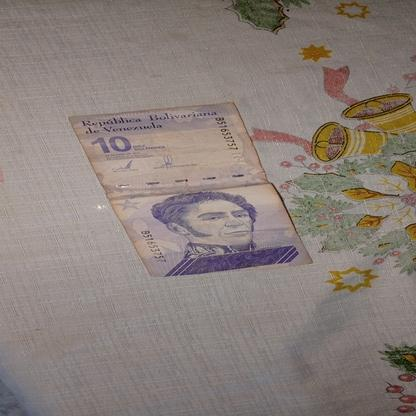vef_front: (67, 102, 312, 279)
